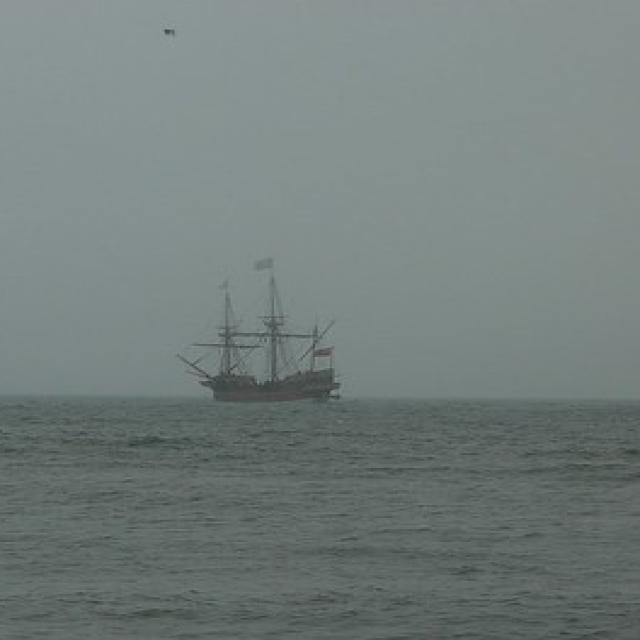fishing boat: (189, 262, 353, 395)
